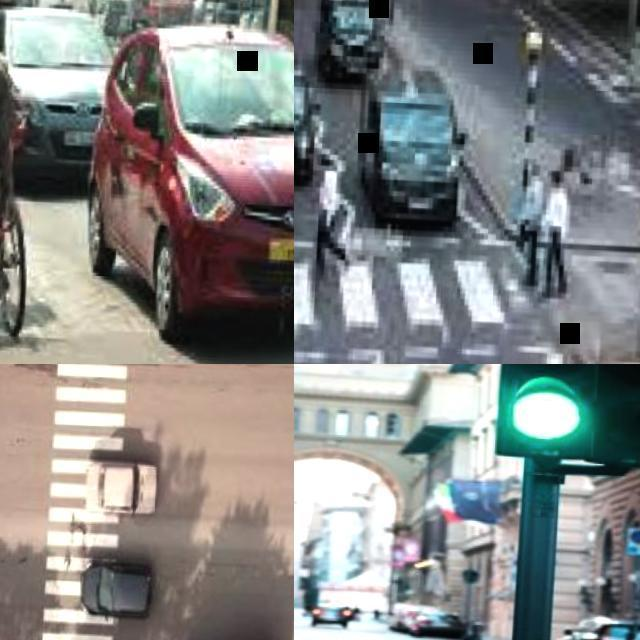car: (87, 9, 296, 342), (359, 3, 472, 227), (314, 2, 382, 83)
